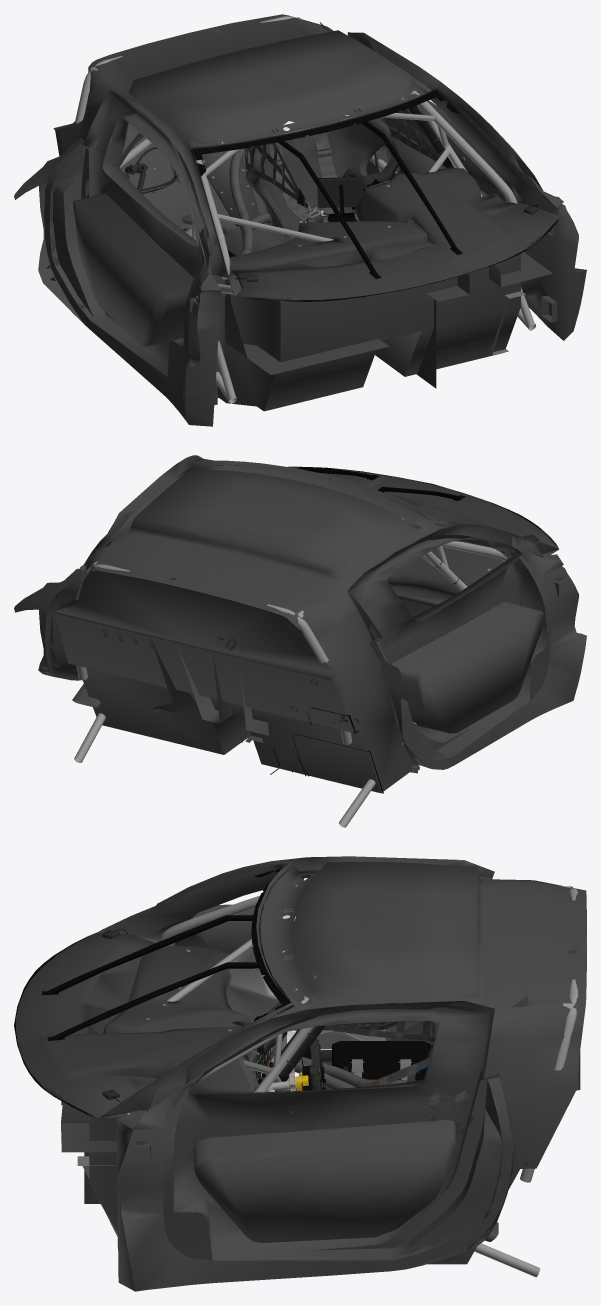
The model's file is gt_toy_int.glb.
3 renders of one model, top to bottom at view 1: azimuth 30°, elevation 25°; view 2: azimuth 150°, elevation 25°; view 3: azimuth 270°, elevation 25°, orthographic. The views are drawn at different scales.
Visible parts, largest first — view 1: Interior-Interior, Interior-CarbonFiber, Interior-Suede, Interior-CarbonFiber.001, Cockpit-Suede, Interior-PaintSilver, Interior-PaintBlack, Cockpit-NylonBlack, Interior-PlasticBlack, Cockpit-SeatBelt, Interior-Hose, Interior-Steel (+2 smaller); view 2: Interior-Interior, Interior-CarbonFiber, Interior-CarbonFiber.001, Interior-Suede, Interior-PaintSilver, Interior-PaintBlack, Interior-PlasticBlack; view 3: Interior-Interior, Interior-CarbonFiber, Interior-CarbonFiber.001, Interior-Suede, Interior-PaintBlack, Interior-PaintSilver, Cockpit-NylonBlack, Interior-Hose, Interior-PlasticBlack, Interior-Steel, Interior-Rubber, Interior-Black.
Boxes of the visible parts, x1,y1,x2,y2 form: Interior-Interior: (14,14,586,426); Interior-CarbonFiber: (14,90,586,424); Interior-Suede: (219,168,558,300); Interior-CarbonFiber.001: (49,32,543,376); Cockpit-Suede: (246,118,436,388); Interior-PaintSilver: (75,16,535,403); Interior-PaintBlack: (191,90,462,278); Cockpit-NylonBlack: (213,22,453,222); Interior-PlasticBlack: (119,113,538,337); Cockpit-SeatBelt: (269,132,337,222); Interior-Hose: (229,148,272,255); Interior-Steel: (129,108,525,355); Interior-Interior: (14,458,586,793); Interior-CarbonFiber: (14,535,586,769); Interior-CarbonFiber.001: (50,455,546,759); Interior-Suede: (291,467,559,600); Interior-PaintSilver: (74,541,507,827); Interior-PaintBlack: (217,464,465,793); Interior-PlasticBlack: (102,534,538,779); Interior-Interior: (89,861,586,1291); Interior-CarbonFiber: (61,987,515,1291); Interior-CarbonFiber.001: (147,856,502,1260); Interior-Suede: (16,932,255,1118); Interior-PaintBlack: (41,867,430,1080); Interior-PaintSilver: (127,886,578,1277); Cockpit-NylonBlack: (231,949,577,1134); Interior-Hose: (270,1047,416,1089); Interior-PlasticBlack: (102,930,527,1165); Interior-Steel: (77,908,412,1246); Interior-Rubber: (271,1025,420,1077); Interior-Black: (14,933,288,1117).
Size of the model in its own units: 1.94 by 1.08 by 1.99.
Materials: 2 (2 with a texture image).
